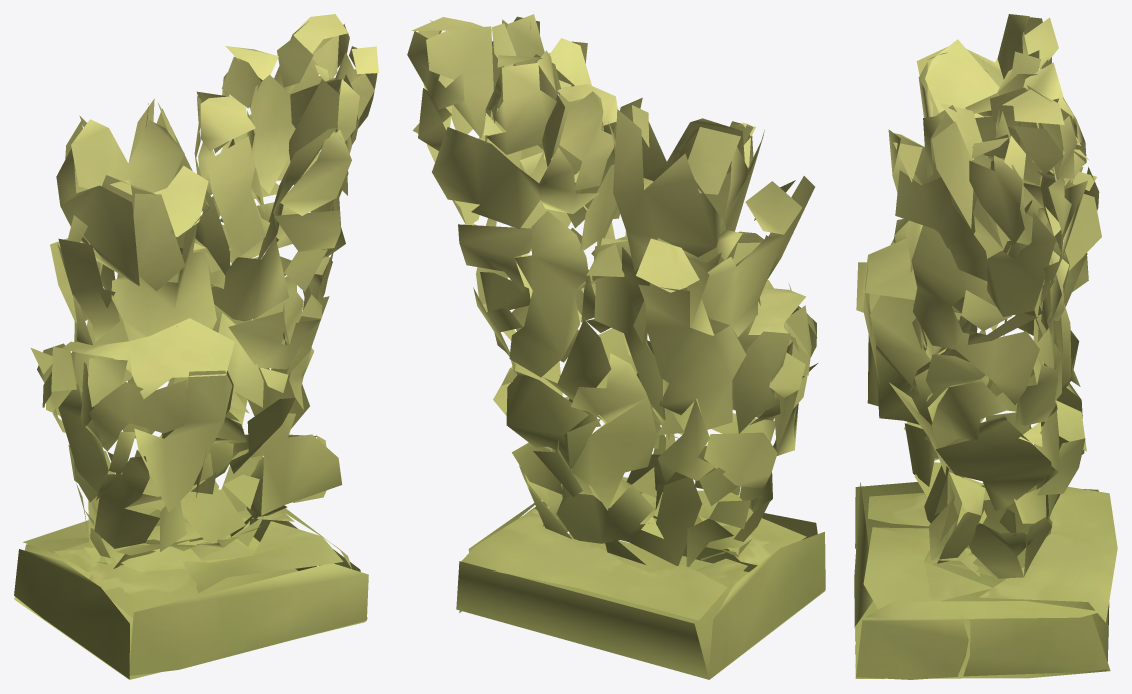
Rendered from porites_lo.glb.
The picture shows the model from 3 angles, left to right: view 1: azimuth 30°, elevation 25°; view 2: azimuth 150°, elevation 25°; view 3: azimuth 270°, elevation 25°; orthographic projection. The views are drawn at different scales.
Visible parts, largest first — view 1: porites_far; view 2: porites_far; view 3: porites_far.
Boxes of the visible parts, x1,y1,x2,y2 form: porites_far: (14,14,378,679); porites_far: (407,14,825,679); porites_far: (854,14,1117,679).
Bounding box in the file's own units: 0.203 × 0.2958 × 0.1182.
Materials: 1 (1 with a texture image).
